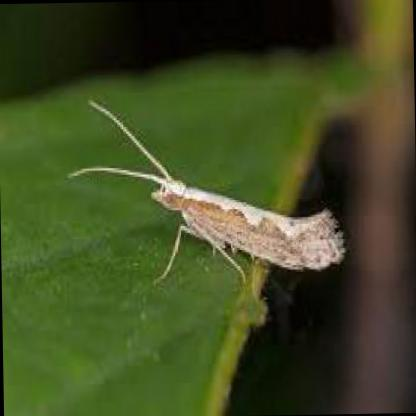plutella: (56, 89, 345, 290)
